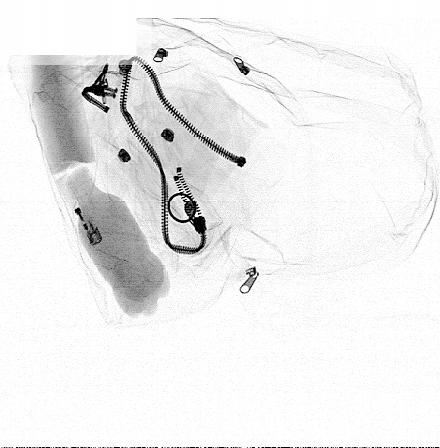Lighter: (55, 172, 103, 248)
